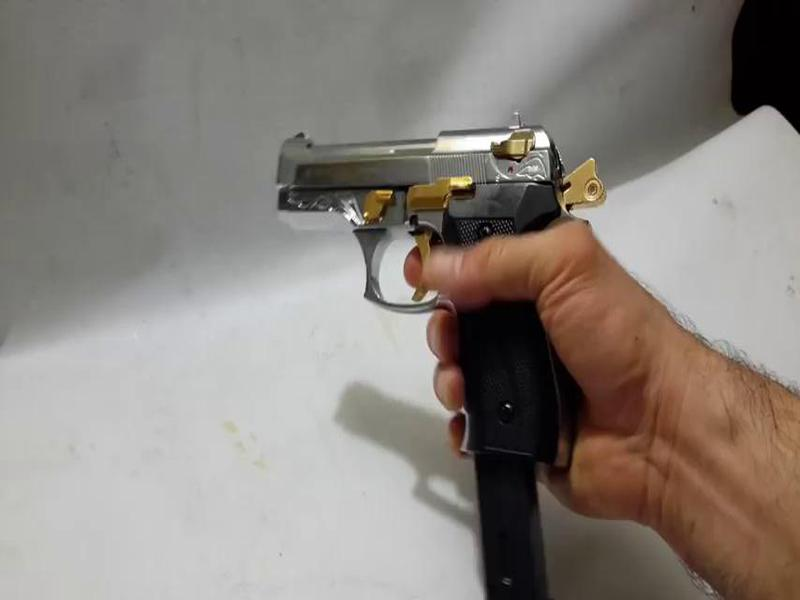Pistola: (264, 122, 596, 454)
